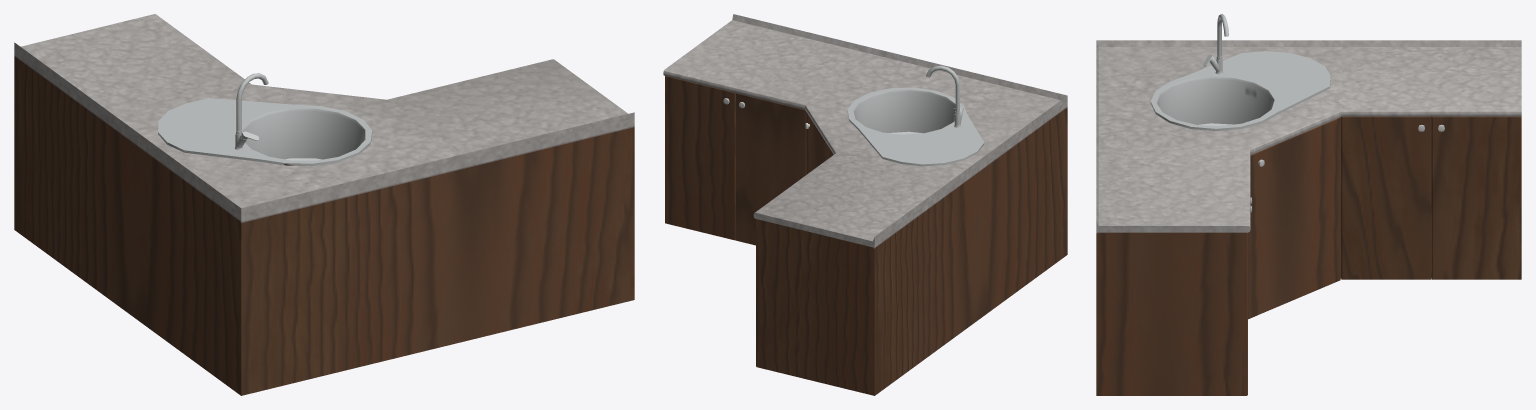
Rendered from CabinetRoundedWithSink.glb.
3 renders of one model, left to right at view 1: azimuth 30°, elevation 25°; view 2: azimuth 150°, elevation 25°; view 3: azimuth 270°, elevation 25°, orthographic. The views are drawn at different scales.
Parts seen in each view (by area): view 1: KitchenCabinetRoundedWithSink; view 2: KitchenCabinetRoundedWithSink; view 3: KitchenCabinetRoundedWithSink.
Part boxes in pixels (x1,y1,x2,y2): KitchenCabinetRoundedWithSink: (14, 14, 634, 395); KitchenCabinetRoundedWithSink: (663, 14, 1067, 395); KitchenCabinetRoundedWithSink: (1096, 14, 1521, 395).
Bounding box in the file's own units: 1.89 × 1.16 × 1.89.
1 material, 1 textured.
